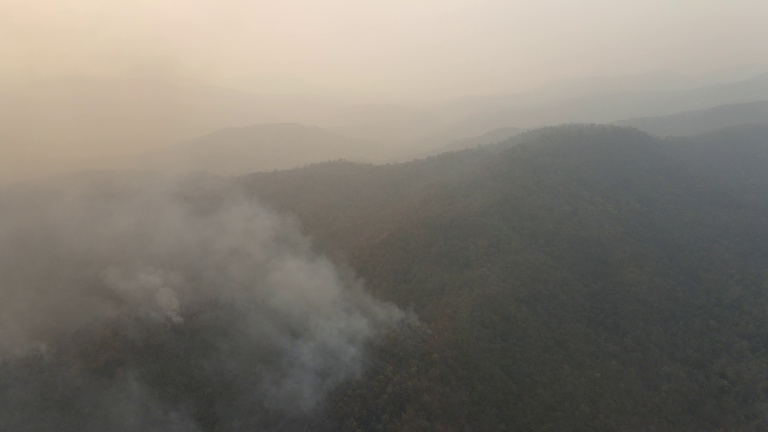smoke: (1, 1, 429, 429)
